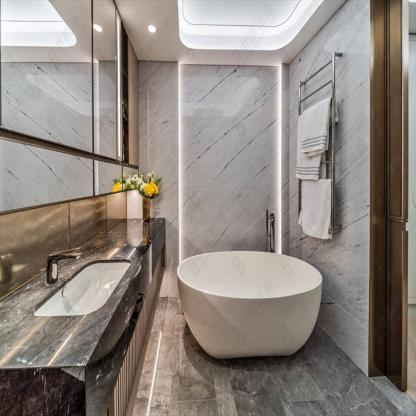Bathtub: (176, 250, 323, 359)
Faucet: (48, 249, 92, 282)
Toilet Sink: (32, 258, 134, 316)
